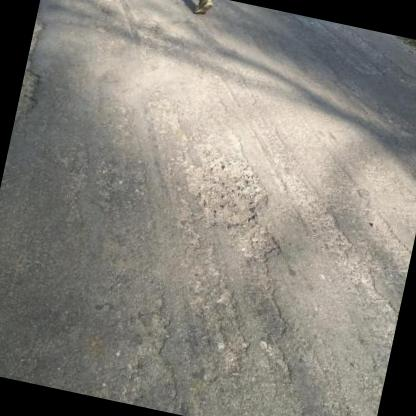pothole: (172, 149, 273, 233), (237, 223, 284, 263)
